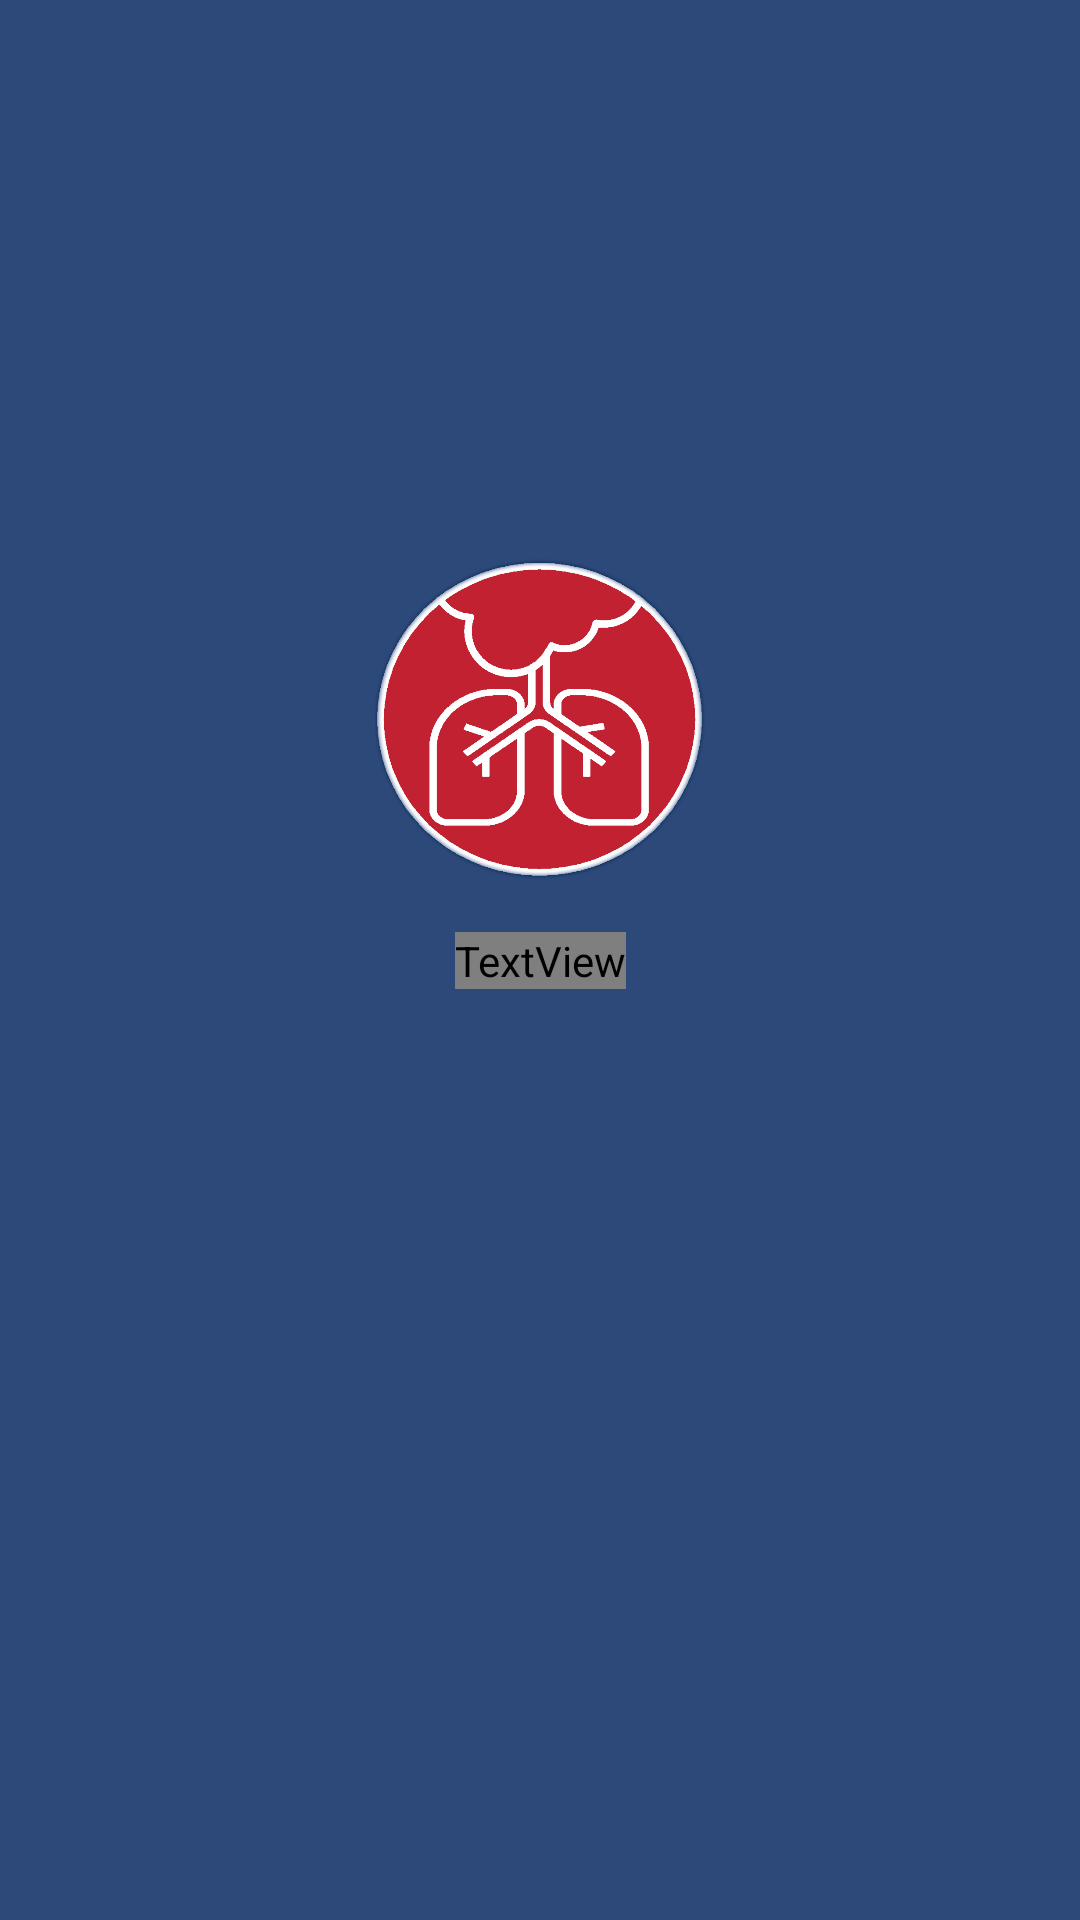

Named icons in this screenshot (1080x1920) and their bounding boxes, {"left": x1, "top": y1, "right": x2, "bottom": y2}:
logazo: {"left": 377, "top": 563, "right": 702, "bottom": 876}
